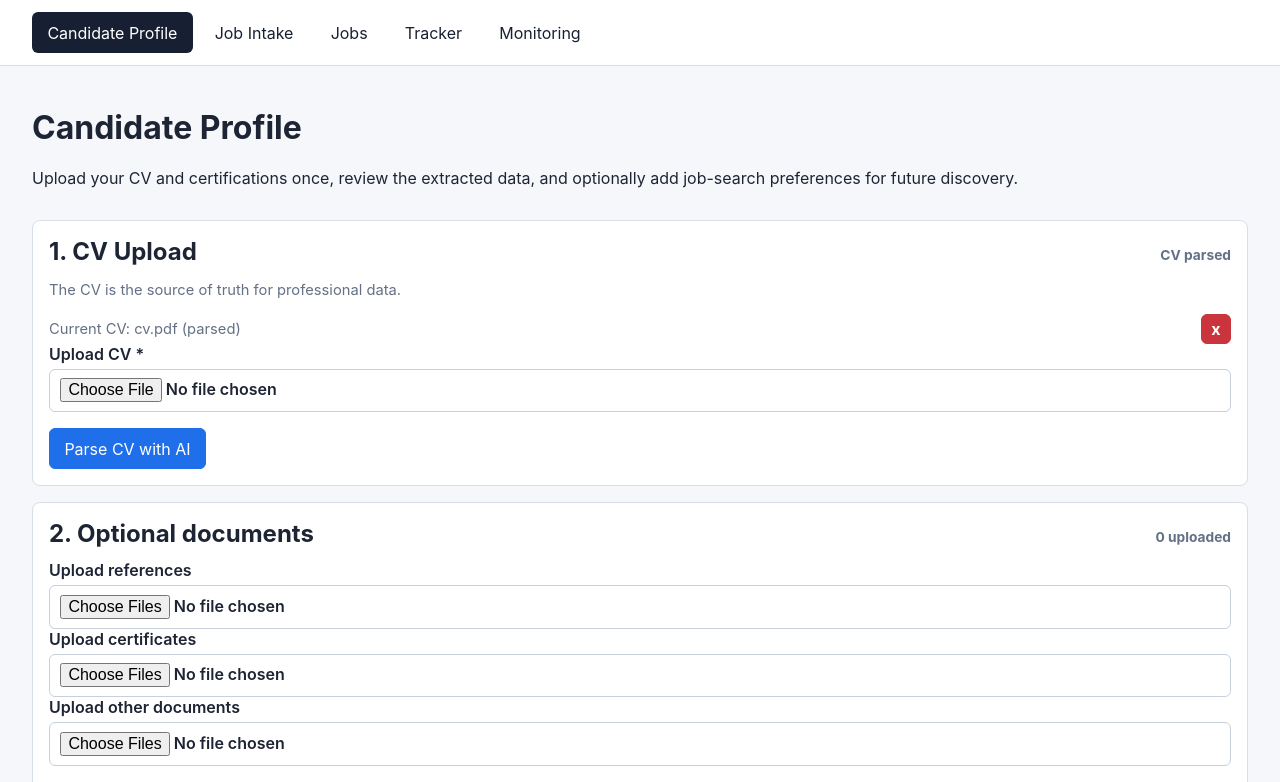
Test case: App workflow pages › shows the workflow stepper and switches selected job details
Step 1. Click the button "Jobs" → (349, 33), box [315, 12, 383, 53]
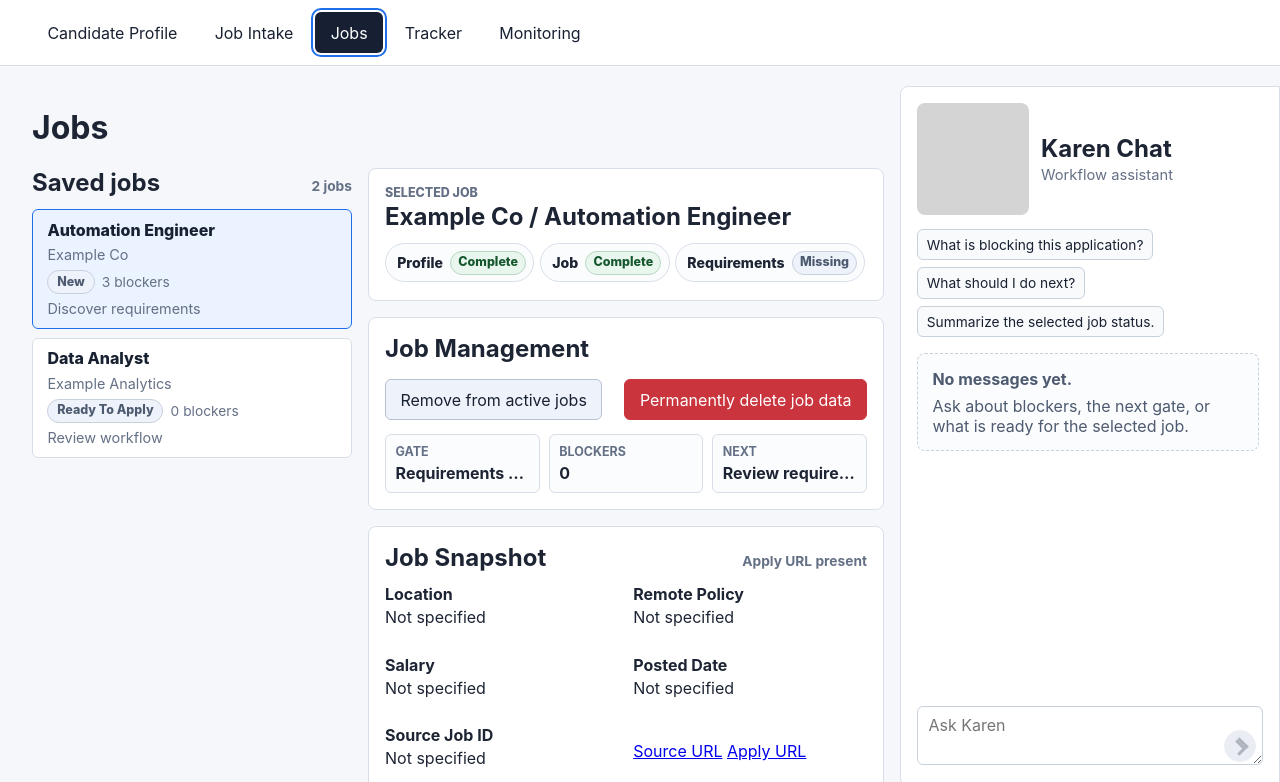
Now the list named "Selected job workflow steps" shows "Requirements", box [675, 244, 866, 282]
Step 2. Click the button "Data Analyst" → (98, 358), box [32, 338, 352, 458]
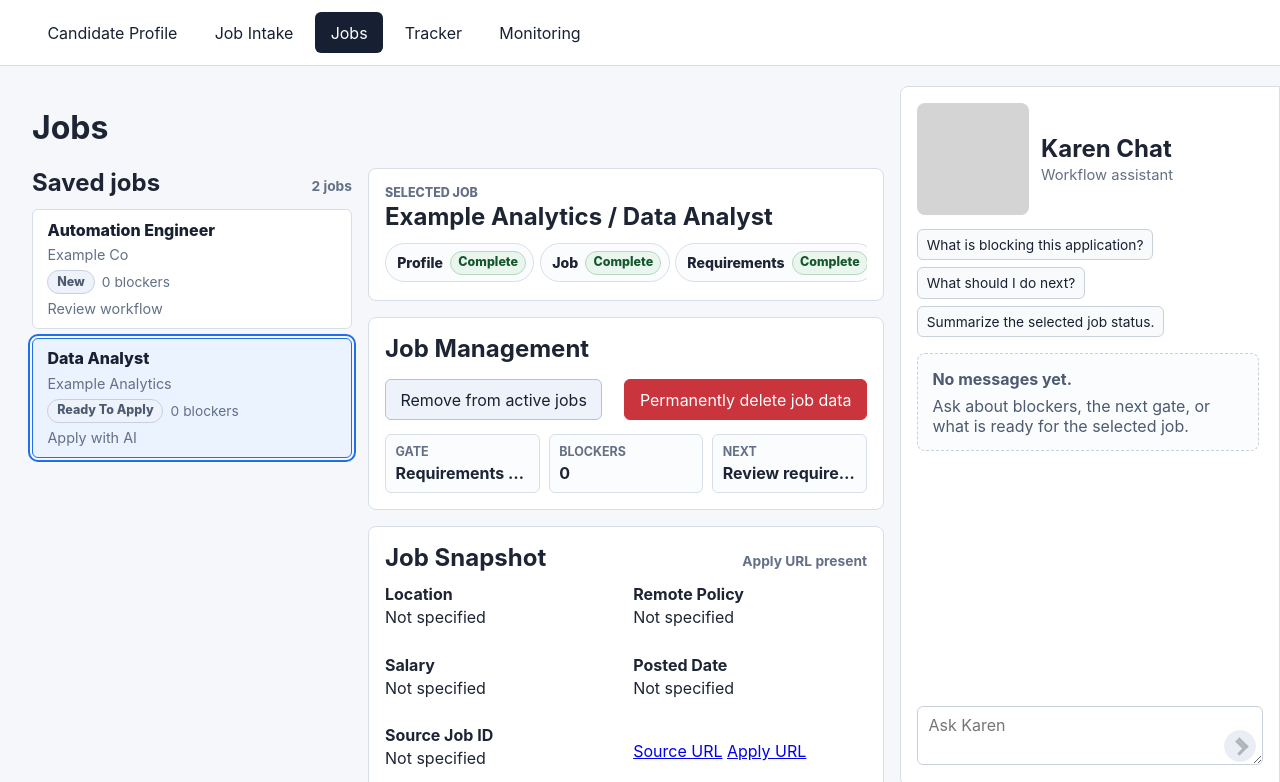
Now the heading "Example Analytics / Data Analyst" is shown, box [385, 202, 773, 232]
